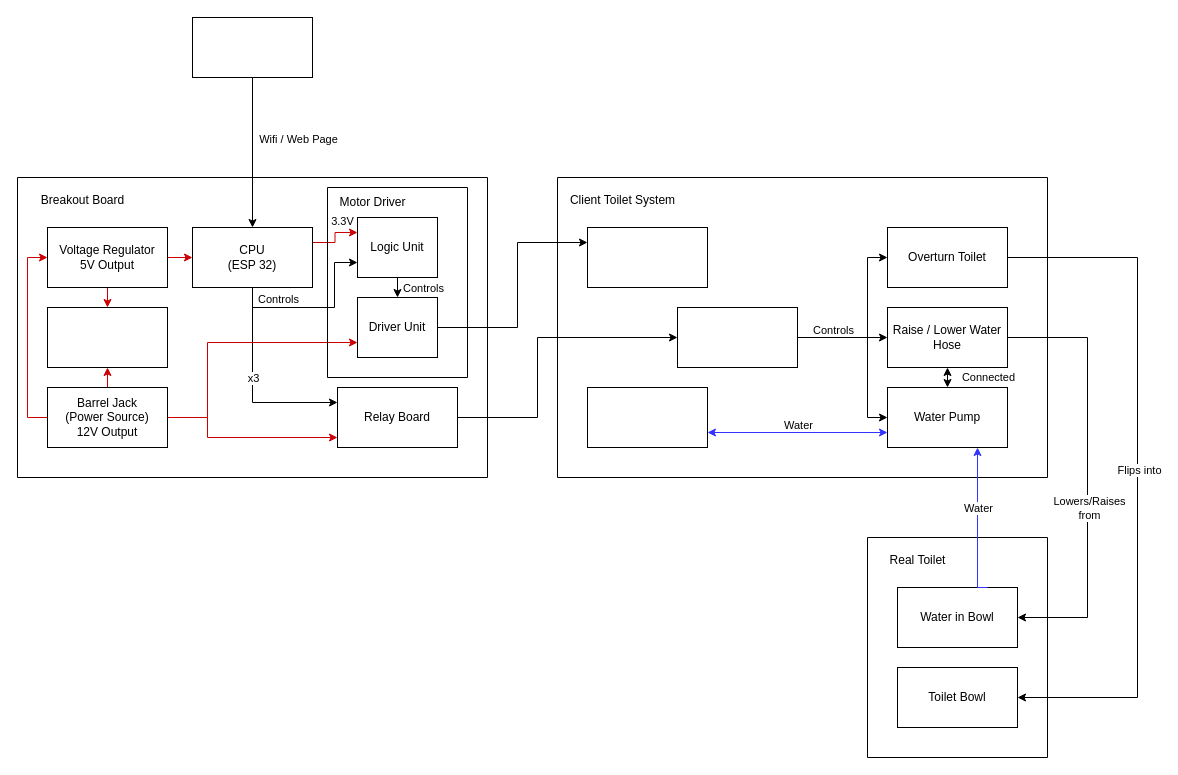
The diagram is 1178 pixels wide and 775 high, and some of its shapes have lost their labels. The centre of each missing label's shape, as x and y in pixels:
Clutches (3): pixel 737 337
Header Power Pins: pixel 107 337
Internal Water Reservoir: pixel 647 417
Motor: pixel 647 257
Phone: pixel 252 47
